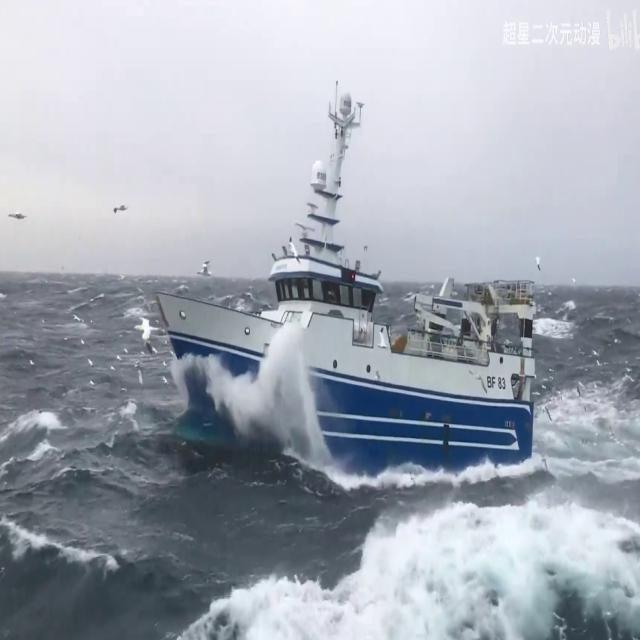houseboat: (159, 82, 537, 460)
